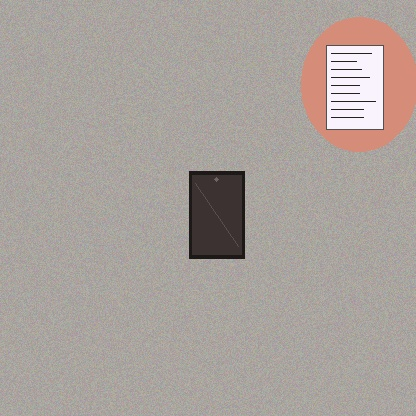cell_phone: (189, 171, 244, 258)
exam_chit: (326, 45, 383, 129)
